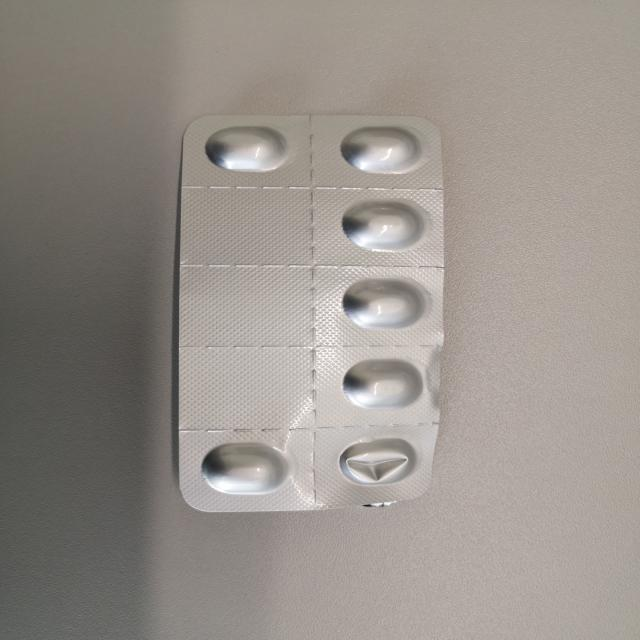Empty: (325, 429, 426, 490)
Pill: (187, 434, 301, 498), (329, 268, 434, 334), (331, 121, 437, 184), (336, 190, 432, 256), (191, 118, 297, 177), (333, 355, 432, 416)
